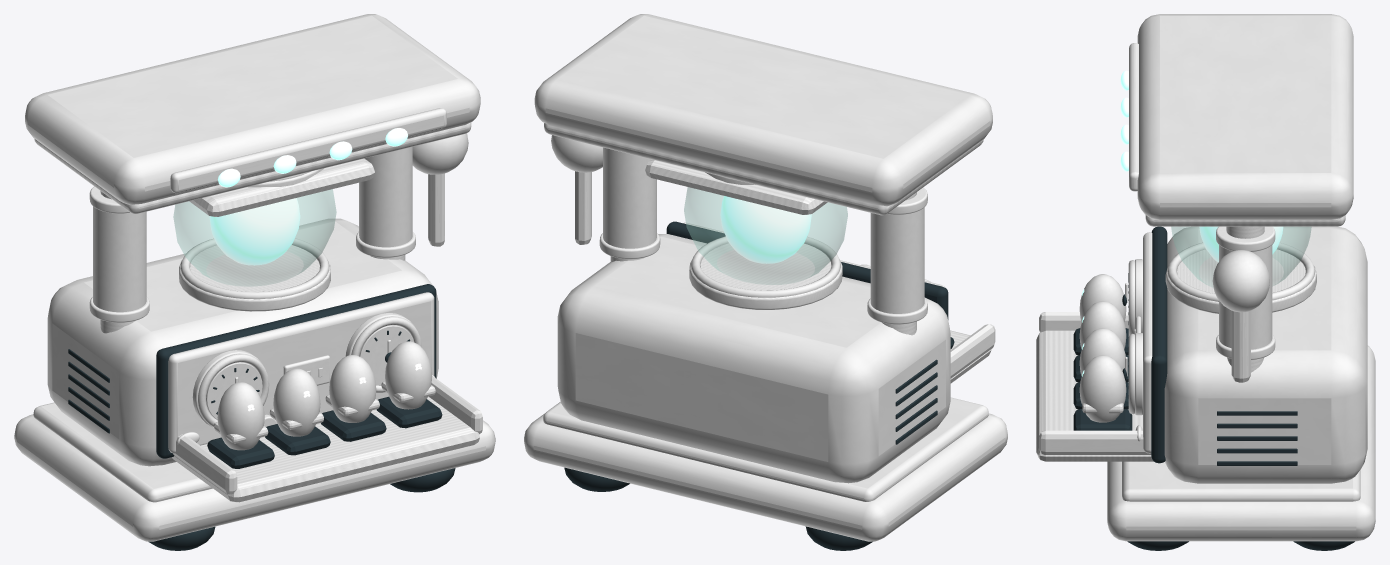
The model's file is packet-press-collectible.raw.glb.
3 renders of one model, left to right at view 1: azimuth 30°, elevation 25°; view 2: azimuth 150°, elevation 25°; view 3: azimuth 270°, elevation 25°, orthographic.
Visible parts, largest first — view 1: Collectible_CollectiblePress_PillowCrown, Collectible_CollectiblePress_Shell, Collectible_CollectiblePress_PorcelainPlinth, Collectible_CollectiblePress_Vessel, Collectible_CollectiblePress_Dashboard, CollectibleSource_PacketPress_TrayDeck, Collectible_CollectiblePress_VesselCollar_2.17, Collectible_CollectiblePress_PorcelainSleeve_-1, Collectible_CollectiblePress_CrownStripe, Collectible_CollectiblePress_CoralWaist, Collectible_CollectiblePress_PorcelainSleeve_1, Collectible_CollectiblePress_Core (+27 smaller); view 2: Collectible_CollectiblePress_Shell, Collectible_CollectiblePress_PillowCrown, Collectible_CollectiblePress_PorcelainPlinth, Collectible_CollectiblePress_Vessel, Collectible_CollectiblePress_CoralWaist, Collectible_CollectiblePress_VesselCollar_2.17, Collectible_CollectiblePress_PorcelainSleeve_-1, Collectible_CollectiblePress_PorcelainSleeve_1, Collectible_CollectiblePress_Core, Collectible_CollectiblePress_CrownSeat, CollectibleSource_PacketPress_RamPlate, Collectible_CollectiblePress_VesselSeal_2.17 (+8 smaller); view 3: Collectible_CollectiblePress_PillowCrown, Collectible_CollectiblePress_Shell, Collectible_CollectiblePress_PorcelainPlinth, Collectible_CollectiblePress_CoralWaist, CollectibleSource_PacketPress_TrayDeck, Collectible_CollectiblePress_VesselCollar_2.17, Collectible_CollectiblePress_DashboardSeat, Collectible_CollectiblePress_Vessel, CollectibleSource_PacketPress_LeverGrip, CollectibleSource_PacketPress_TrayLip_1.32, CollectibleSource_PacketPress_CapsuleShell_3, Collectible_CollectiblePress_Dashboard (+23 smaller).
Boxes of the visible parts, <box> form: Collectible_CollectiblePress_PillowCrown: <box>25,14,480,205</box>; Collectible_CollectiblePress_Shell: <box>47,218,438,466</box>; Collectible_CollectiblePress_PorcelainPlinth: <box>14,414,495,541</box>; Collectible_CollectiblePress_Vessel: <box>173,189,336,286</box>; Collectible_CollectiblePress_Dashboard: <box>168,292,434,453</box>; CollectibleSource_PacketPress_TrayDeck: <box>172,396,479,502</box>; Collectible_CollectiblePress_VesselCollar_2.17: <box>179,245,330,311</box>; Collectible_CollectiblePress_PorcelainSleeve_-1: <box>93,206,146,312</box>; Collectible_CollectiblePress_CrownStripe: <box>170,108,446,193</box>; Collectible_CollectiblePress_CoralWaist: <box>33,402,212,502</box>; Collectible_CollectiblePress_PorcelainSleeve_1: <box>359,146,412,247</box>; Collectible_CollectiblePress_Core: <box>209,198,300,265</box>; Collectible_CollectiblePress_Shell: <box>557,234,950,483</box>; Collectible_CollectiblePress_PillowCrown: <box>534,14,992,206</box>; Collectible_CollectiblePress_PorcelainPlinth: <box>524,413,1007,541</box>; Collectible_CollectiblePress_Vessel: <box>684,187,847,284</box>; Collectible_CollectiblePress_CoralWaist: <box>543,397,988,501</box>; Collectible_CollectiblePress_VesselCollar_2.17: <box>689,243,842,309</box>; Collectible_CollectiblePress_PorcelainSleeve_-1: <box>870,207,924,313</box>; Collectible_CollectiblePress_PorcelainSleeve_1: <box>603,147,656,248</box>; Collectible_CollectiblePress_Core: <box>720,196,811,263</box>; Collectible_CollectiblePress_CrownSeat: <box>544,123,983,215</box>; CollectibleSource_PacketPress_RamPlate: <box>645,159,827,214</box>; Collectible_CollectiblePress_VesselSeal_2.17: <box>691,236,840,297</box>; Collectible_CollectiblePress_PillowCrown: <box>1137,14,1353,219</box>; Collectible_CollectiblePress_Shell: <box>1164,226,1367,483</box>; Collectible_CollectiblePress_PorcelainPlinth: <box>1107,345,1375,541</box>; Collectible_CollectiblePress_CoralWaist: <box>1122,461,1360,501</box>; CollectibleSource_PacketPress_TrayDeck: <box>1036,330,1153,461</box>; Collectible_CollectiblePress_VesselCollar_2.17: <box>1165,249,1316,313</box>; Collectible_CollectiblePress_DashboardSeat: <box>1151,226,1167,463</box>; Collectible_CollectiblePress_Vessel: <box>1171,227,1311,287</box>; CollectibleSource_PacketPress_LeverGrip: <box>1212,250,1269,312</box>; CollectibleSource_PacketPress_TrayLip_1.32: <box>1039,430,1151,454</box>; CollectibleSource_PacketPress_CapsuleShell_3: <box>1079,355,1126,422</box>; Collectible_CollectiblePress_Dashboard: <box>1143,232,1152,453</box>.
Size of what is drawn, in the model's own units: 4.22 by 4.07 by 3.18.
Materials: 9 (6 with a texture image).
